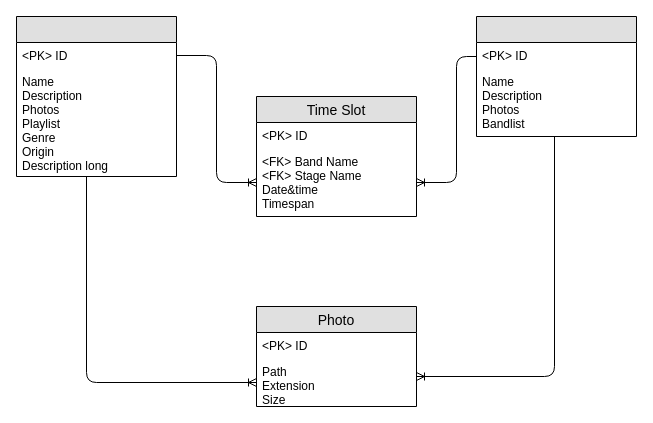
This 653x423 diagram has some shape labels left out. The shapes that lost their labels are listed below. From the top down, each one's box as (x1, y1, x2, y2) in pixels, then its label:
(16, 16, 176, 176): Band
(476, 16, 636, 136): Stage
